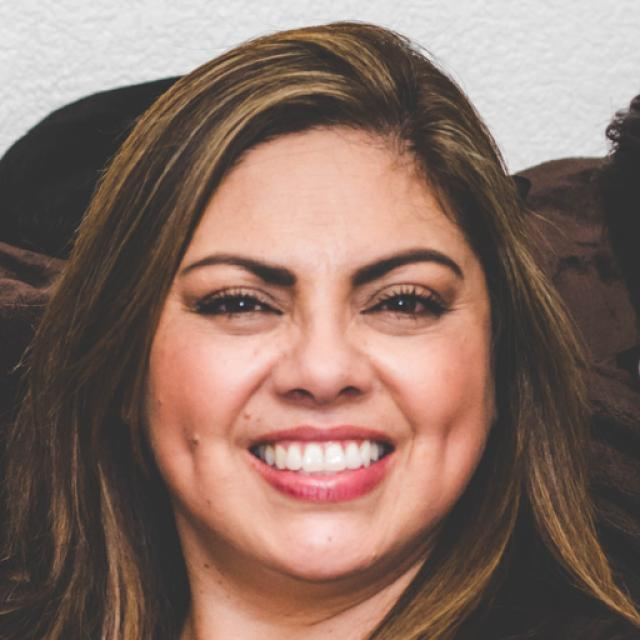Acne: (184, 429, 205, 462), (234, 403, 255, 430), (148, 392, 166, 413)
